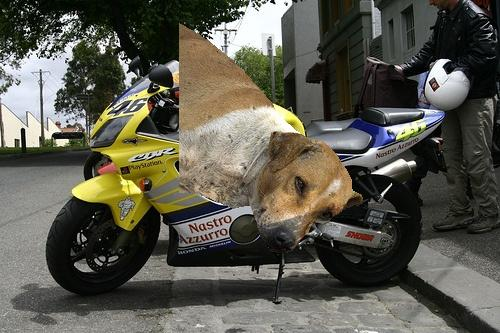tampered: (180, 24, 363, 253)
